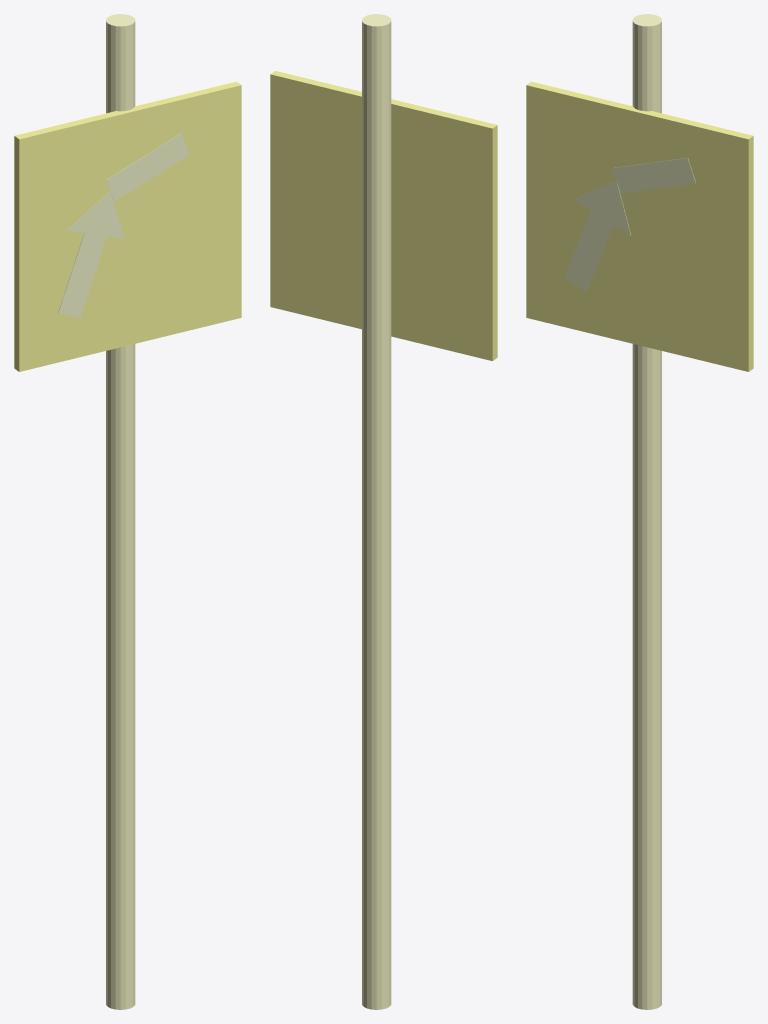
The model's file is sign_curve_left.glb.
The picture shows the model from 3 angles, left to right: view 1: azimuth 30°, elevation 25°; view 2: azimuth 150°, elevation 25°; view 3: azimuth 330°, elevation 25°; orthographic projection.
Parts seen in each view (by area): view 1: plate_base_00, pole, layer_1_02, layer_1_00, layer_1_01; view 2: plate_base_00, pole; view 3: plate_base_00, pole, layer_1_02, layer_1_00, layer_1_01.
Boxes of the visible parts, x1,y1,x2,y2 form: plate_base_00: [14, 81, 241, 371]; pole: [106, 14, 135, 1009]; layer_1_02: [106, 133, 189, 201]; layer_1_00: [58, 233, 106, 316]; layer_1_01: [67, 191, 124, 238]; plate_base_00: [270, 71, 497, 360]; pole: [362, 14, 391, 1009]; plate_base_00: [526, 81, 753, 371]; pole: [632, 14, 661, 1009]; layer_1_02: [612, 158, 695, 193]; layer_1_00: [564, 210, 613, 292]; layer_1_01: [573, 181, 631, 235].
Size of the model in its own units: 0.5204 by 2.2 by 0.071.
